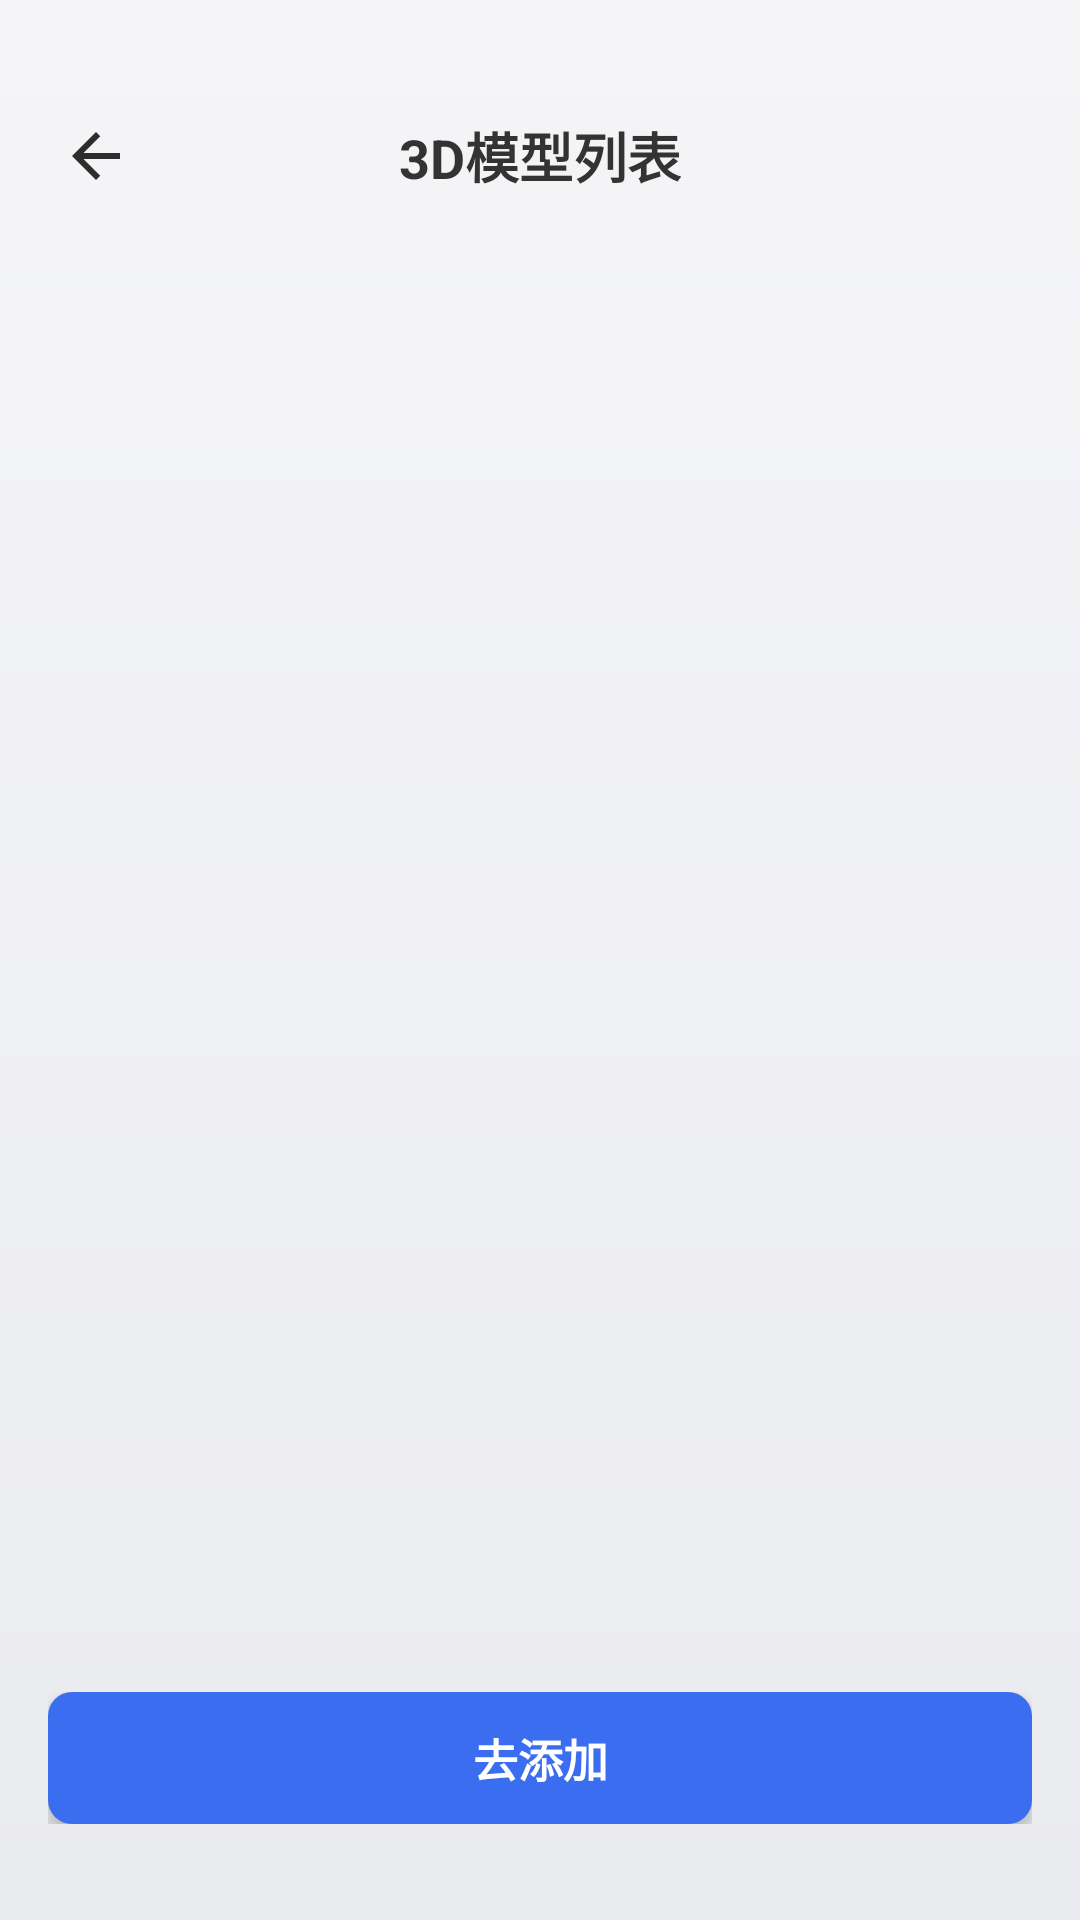

Named icons in this screenshot (1080px x 1920px) and their bounding boxes, (x1, y1, x2, y2):
返回: (72, 132, 120, 180)
